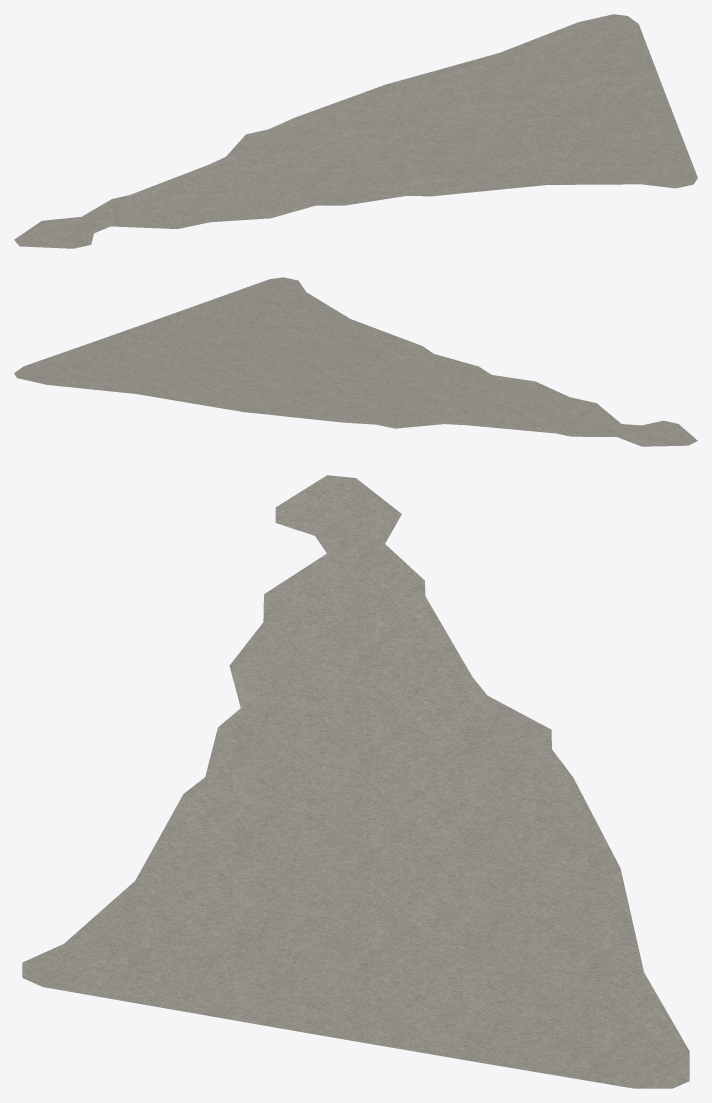
File: path_05.gltf
3 renders of one model, top to bottom at view 1: azimuth 30°, elevation 25°; view 2: azimuth 150°, elevation 25°; view 3: azimuth 270°, elevation 25°, orthographic. The views are drawn at different scales.
Parts seen in each view (by area): view 1: path_05.surface; view 2: path_05.surface; view 3: path_05.surface.
Boxes of the visible parts, bbox=[...] form: path_05.surface: bbox=[14, 14, 697, 248]; path_05.surface: bbox=[14, 277, 697, 446]; path_05.surface: bbox=[22, 475, 689, 1088].
Bounding box in the file's own units: 12 × 0.2902 × 5.8.
1 material, 1 textured.
